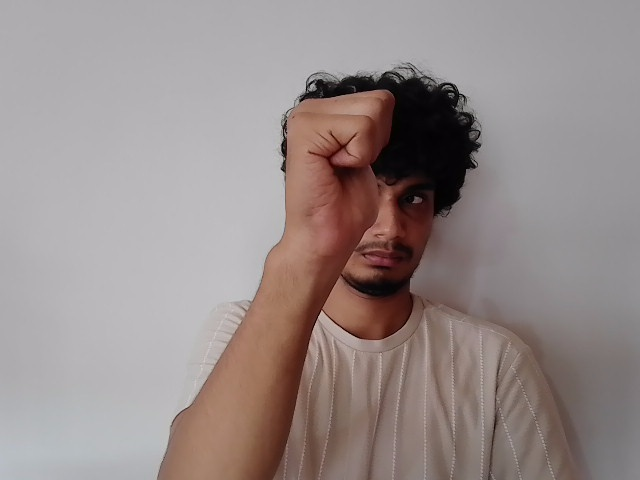how: (285, 89, 397, 245)
